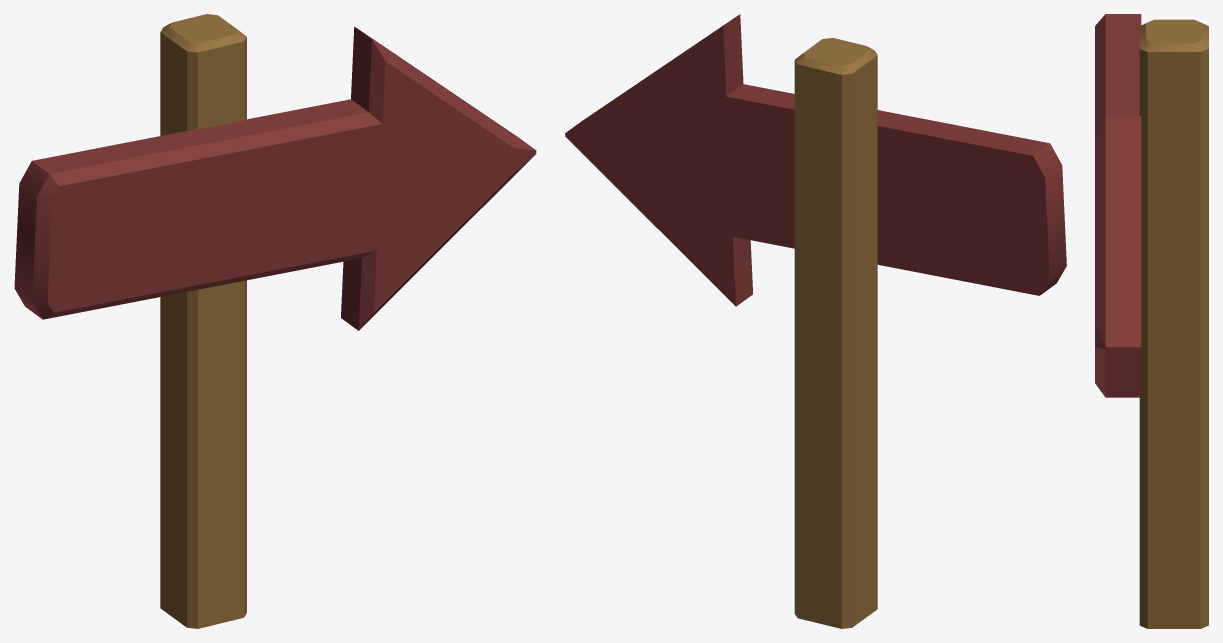
File: Arrow Sign.glb
3 views of the same model, side by side, from view 1: azimuth 30°, elevation 25°; view 2: azimuth 150°, elevation 25°; view 3: azimuth 270°, elevation 25° (orthographic). The views are drawn at different scales.
Visible parts, largest first — view 1: Arrow_Side; view 2: Arrow_Side; view 3: Arrow_Side.
Boxes of the visible parts, <box> form: Arrow_Side: <box>14,14,536,628</box>; Arrow_Side: <box>565,14,1066,628</box>; Arrow_Side: <box>1095,14,1208,628</box>.
Size of the model in its own units: 1.86 by 2.05 by 0.3632.
